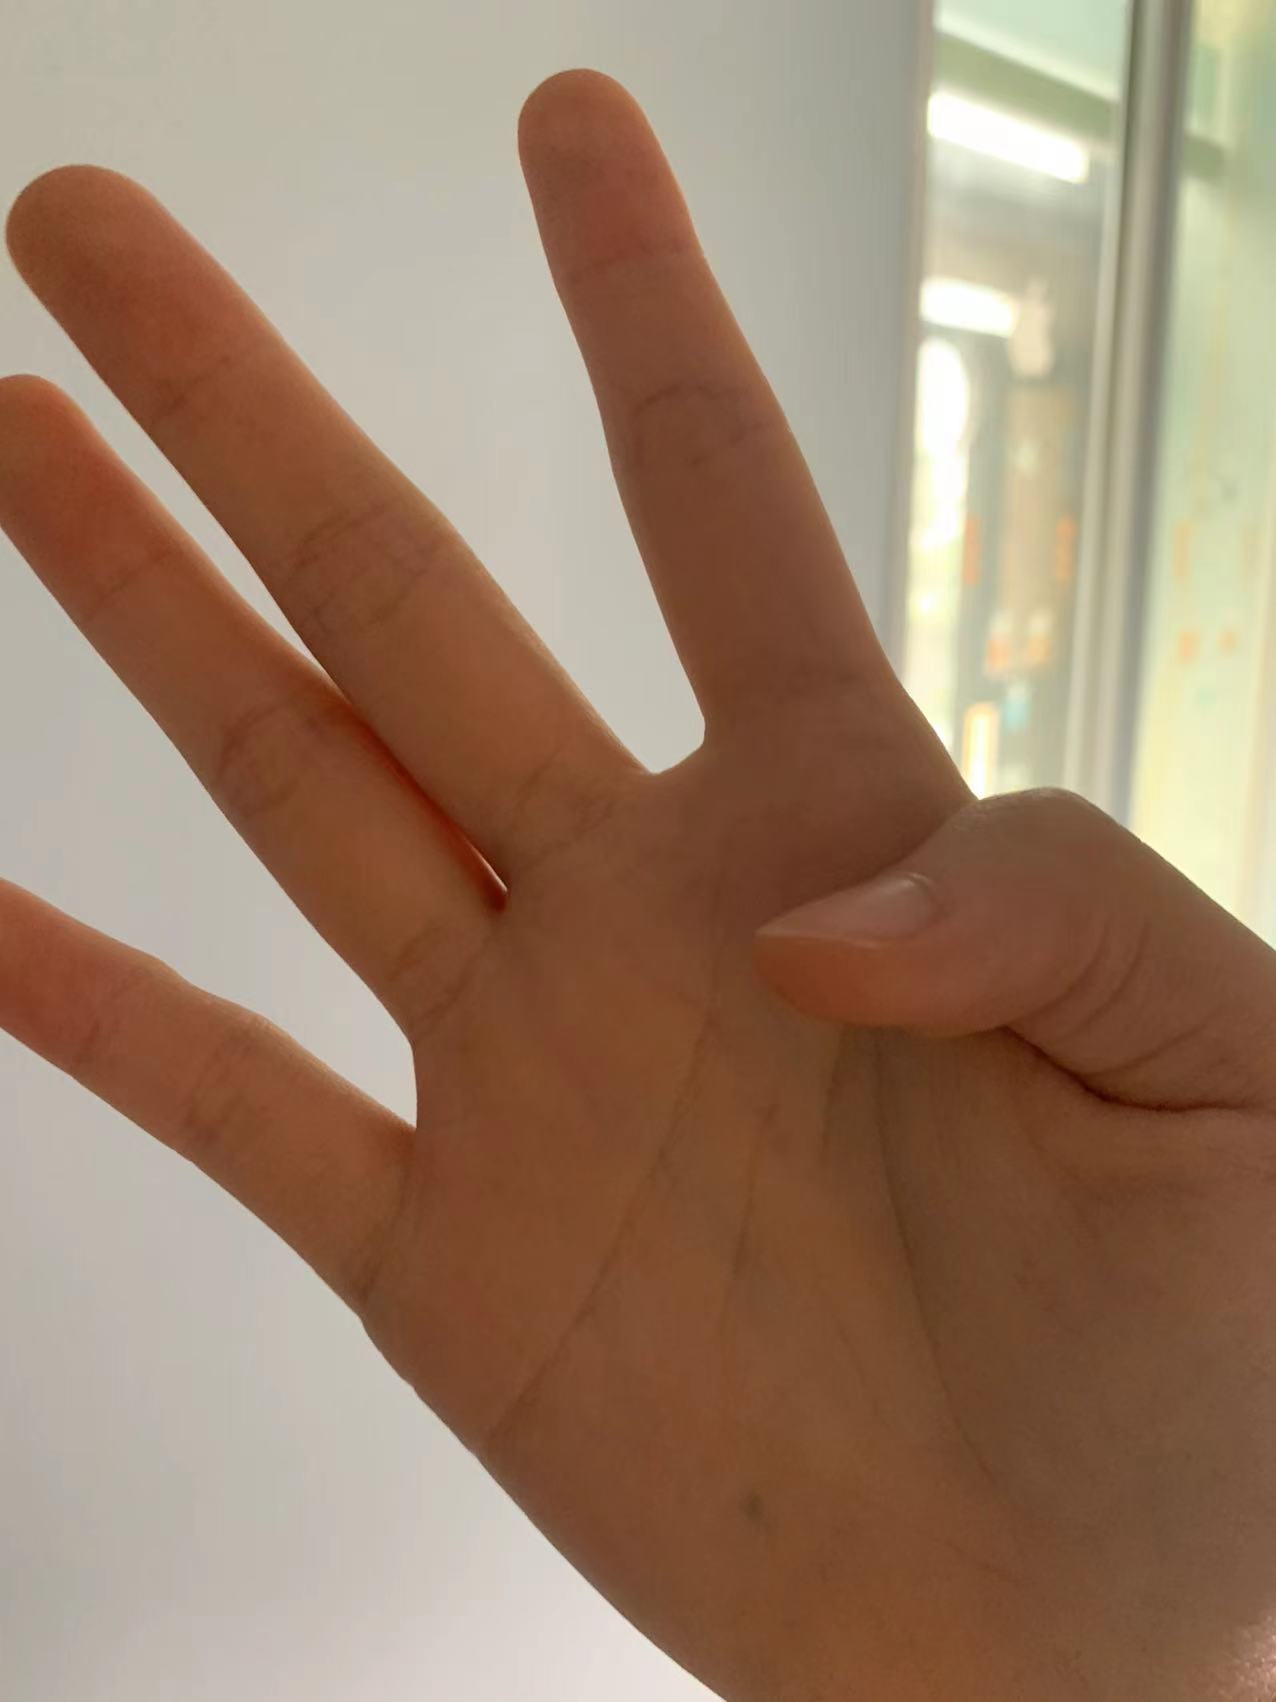right: (7, 56, 1238, 1693)
